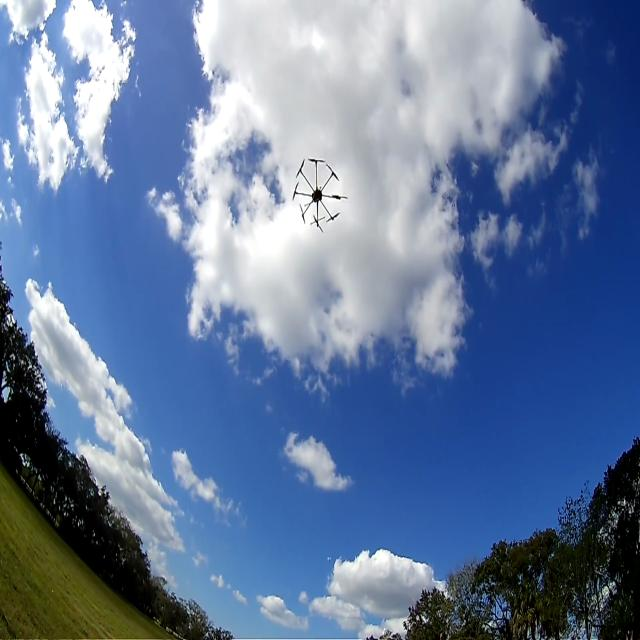drone: (278, 119, 346, 235)
